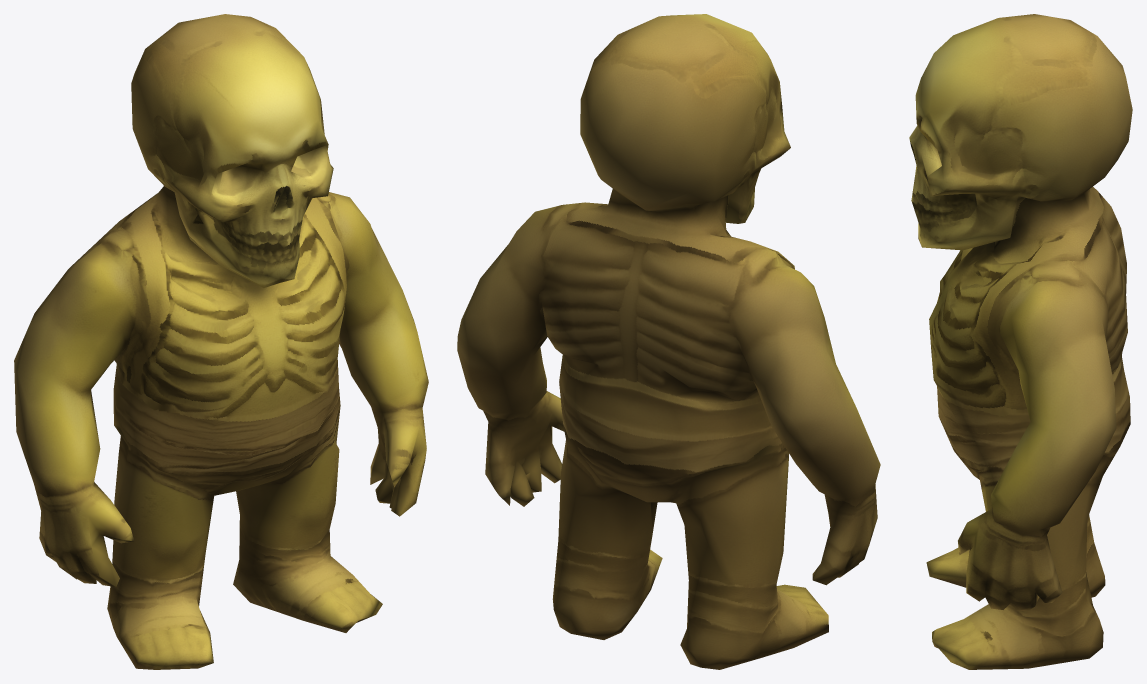
Rendered from parched_single_1500.glb.
3 renders of one model, left to right at view 1: azimuth 30°, elevation 25°; view 2: azimuth 150°, elevation 25°; view 3: azimuth 270°, elevation 25°, orthographic.
Size of the model in its own units: 0.6021 by 0.8737 by 0.296.
Materials: 1 (1 with a texture image).
